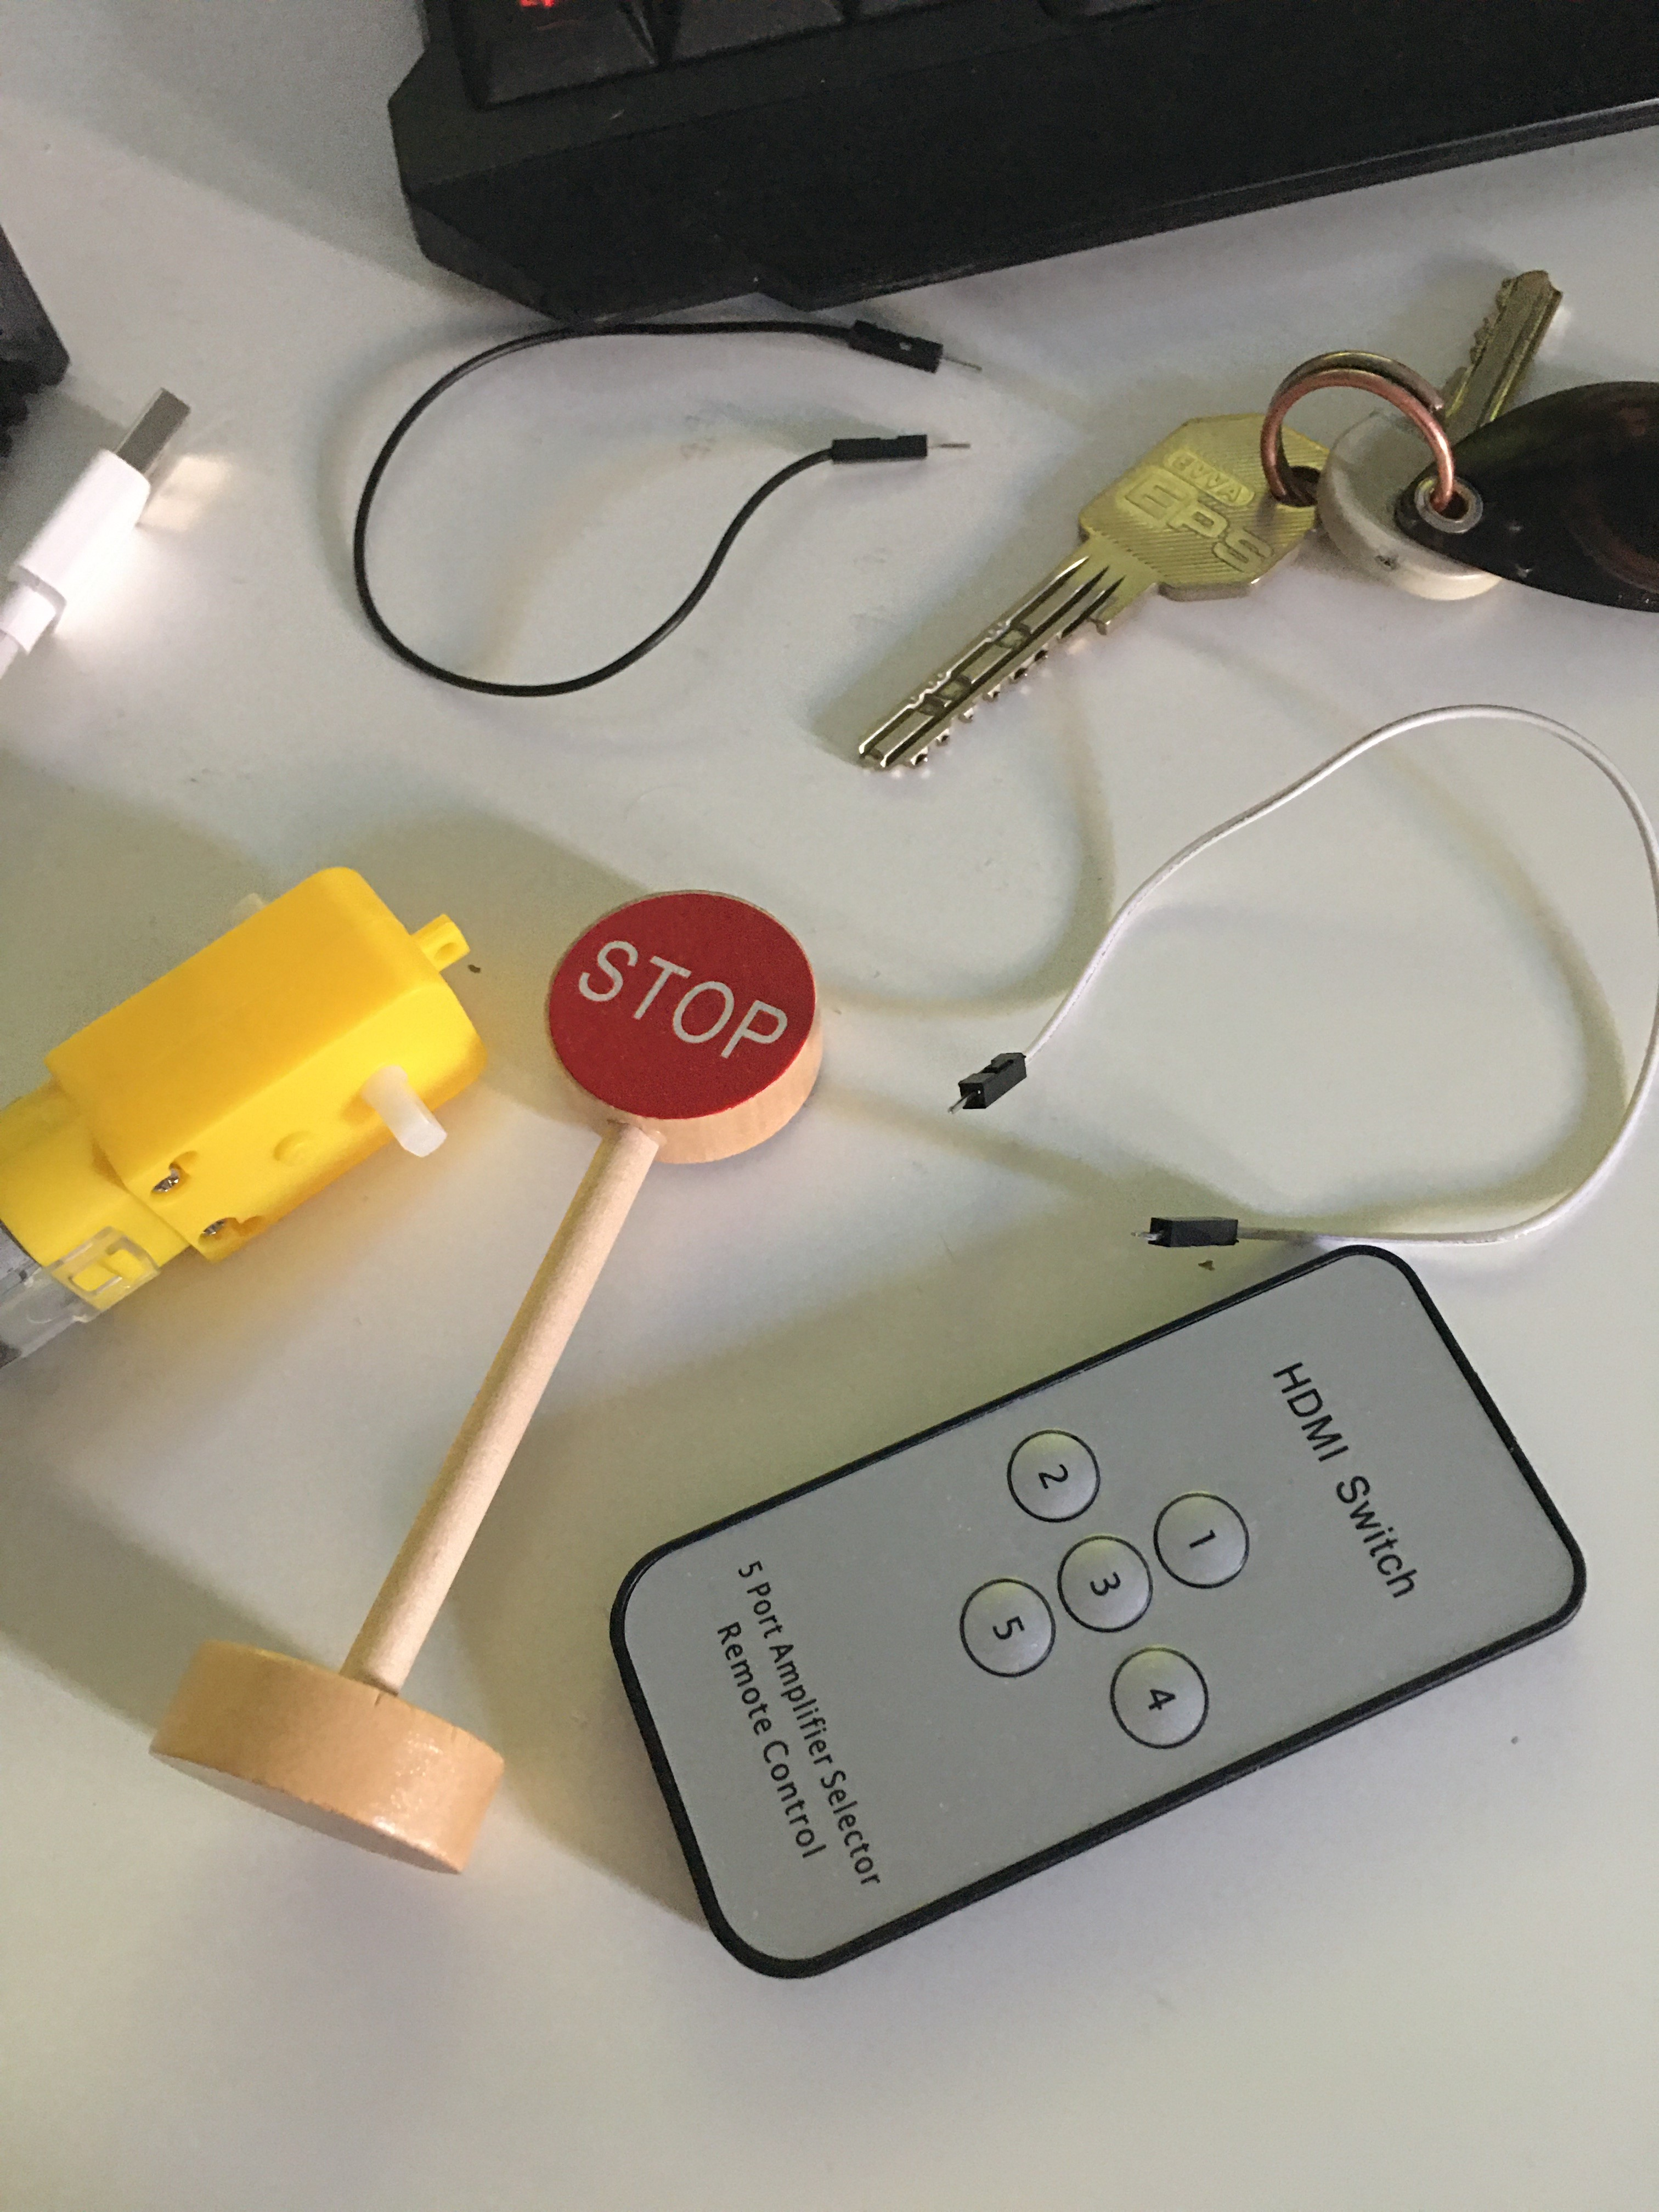Traffic_Sign_Stop: (545, 895, 819, 1122)
